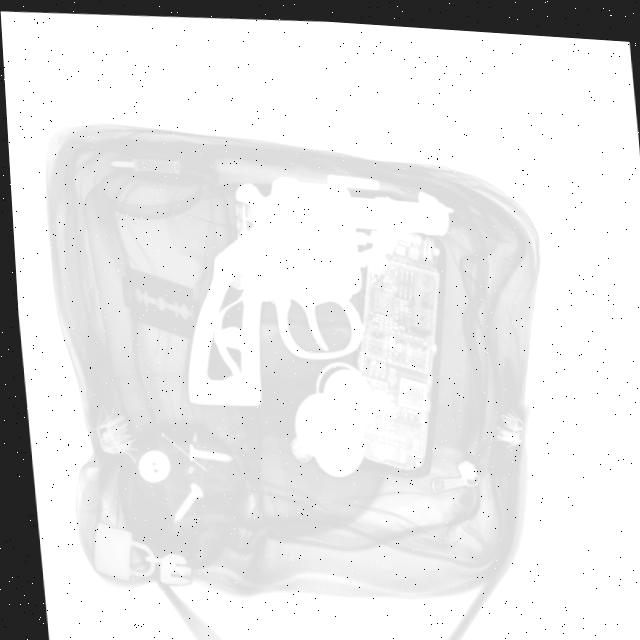pistol: (163, 158, 463, 417)
